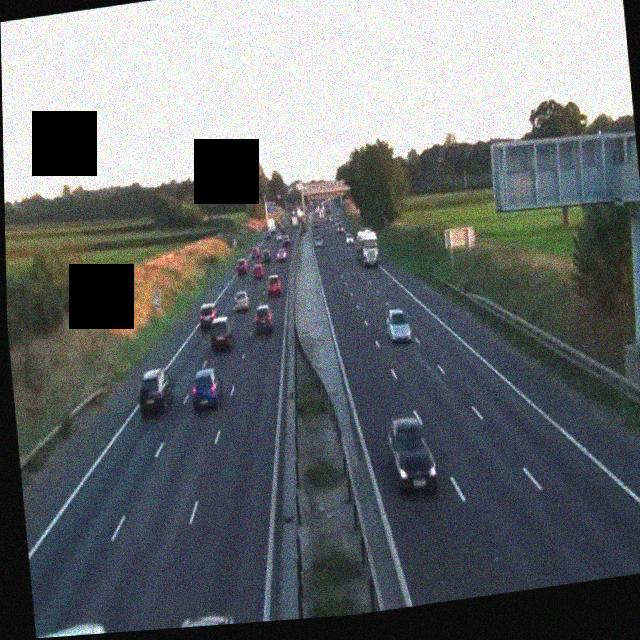car: (385, 410, 437, 497), (137, 365, 176, 417), (188, 365, 223, 411), (155, 611, 236, 630), (384, 305, 411, 345), (208, 317, 233, 352), (199, 298, 224, 330), (253, 303, 273, 333), (232, 287, 251, 313), (266, 274, 281, 297), (251, 260, 264, 278), (275, 247, 287, 263), (236, 259, 247, 276), (243, 250, 254, 265), (314, 232, 324, 248), (344, 228, 353, 244), (282, 236, 291, 250)
truck: (355, 226, 379, 268)
